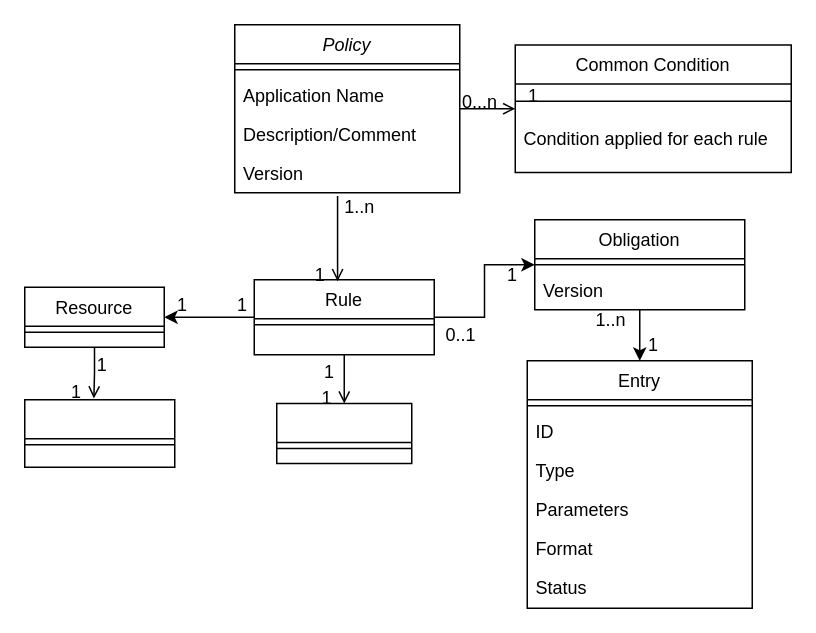
Some shapes in this 816 by 633 pixel diagram are drawn without their labels. Here are the shapes that lost their labels. From the top down, the centre of each, then its label:
point (99, 432): Action
point (343, 433): Condition
